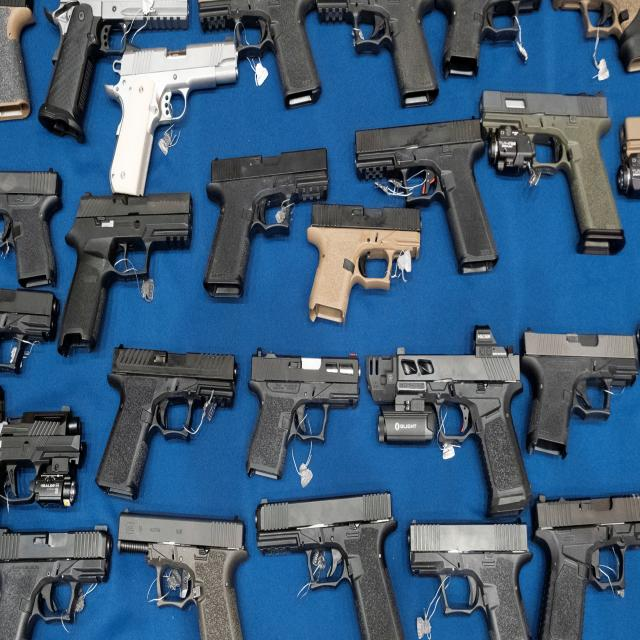Weapon: (364, 337, 536, 511), (478, 82, 629, 260), (93, 337, 241, 502), (352, 118, 500, 280), (253, 489, 412, 637), (56, 188, 196, 353), (201, 147, 339, 312), (110, 45, 246, 200), (517, 322, 640, 468), (114, 505, 247, 640), (247, 344, 363, 488), (404, 512, 534, 640), (308, 200, 426, 332)
